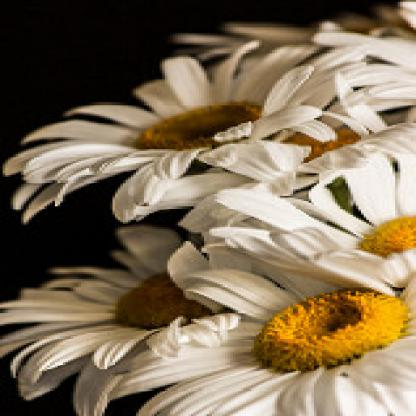ASTER: (14, 18, 404, 405)
